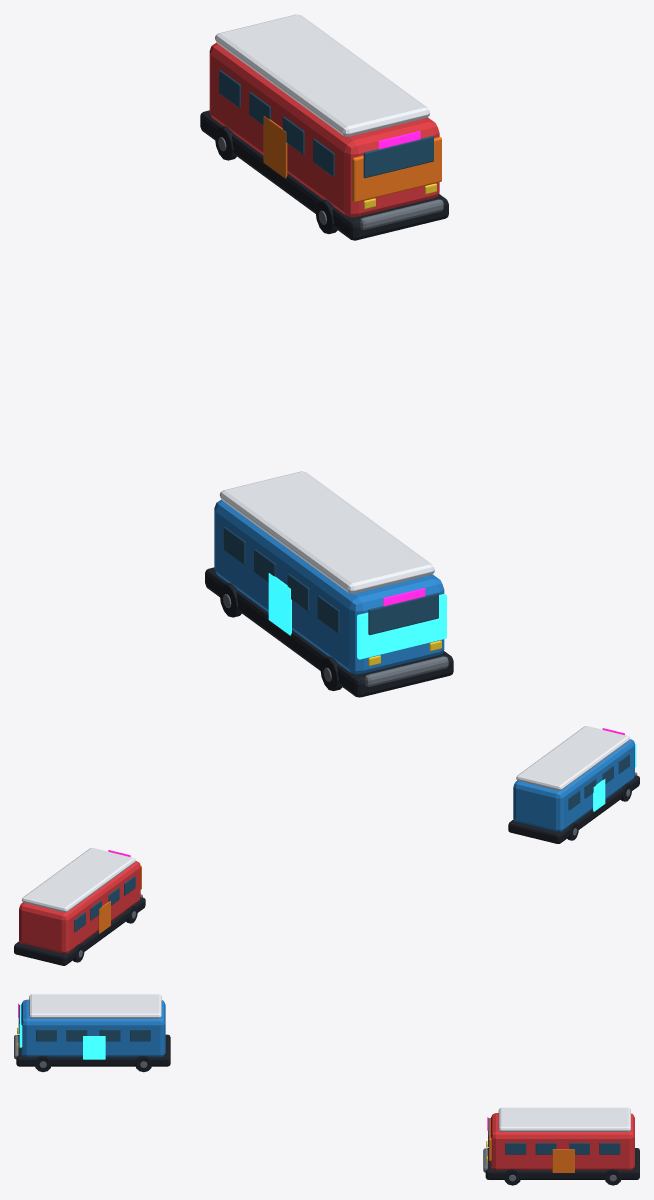
Rendered from 02_TRAINS.fbx.
3 renders of one model, top to bottom at view 1: azimuth 30°, elevation 25°; view 2: azimuth 150°, elevation 25°; view 3: azimuth 270°, elevation 25°, orthographic. The views are drawn at different scales.
Visible parts, largest first — view 1: Train_Metro_Blue_Roof, Train_Express_Red_Roof, Train_Express_Red_Body, Train_Metro_Blue_Body, Train_Express_Red_Chassis, Train_Metro_Blue_Chassis, Train_Express_Red_FrontBand, Train_Metro_Blue_FrontBand, Train_Express_Red_Windshield, Train_Metro_Blue_Windshield, Train_Express_Red_Door, Train_Metro_Blue_Door (+2 smaller); view 2: Train_Express_Red_Body, Train_Metro_Blue_Body, Train_Metro_Blue_Roof, Train_Express_Red_Roof, Train_Express_Red_Chassis, Train_Metro_Blue_Chassis; view 3: Train_Metro_Blue_Body, Train_Express_Red_Body, Train_Metro_Blue_Roof, Train_Express_Red_Roof, Train_Metro_Blue_Chassis, Train_Express_Red_Chassis, Train_Express_Red_Door.001, Train_Metro_Blue_Door.001.
Part boxes in pixels (x1,y1,x2,y2): Train_Metro_Blue_Roof: (219,471,434,593); Train_Express_Red_Roof: (215,14,430,136); Train_Express_Red_Body: (209,42,439,217); Train_Metro_Blue_Body: (214,500,444,674); Train_Express_Red_Chassis: (200,110,448,240); Train_Metro_Blue_Chassis: (205,567,453,697); Train_Express_Red_FrontBand: (352,137,441,202); Train_Metro_Blue_FrontBand: (357,594,446,659); Train_Express_Red_Windshield: (363,135,433,178); Train_Metro_Blue_Windshield: (368,592,438,634); Train_Express_Red_Door: (263,116,287,178); Train_Metro_Blue_Door: (268,573,291,635); Train_Express_Red_Body: (19,861,140,953); Train_Metro_Blue_Body: (513,739,634,831); Train_Metro_Blue_Roof: (516,726,629,790); Train_Express_Red_Roof: (22,848,135,912); Train_Express_Red_Chassis: (14,897,145,965); Train_Metro_Blue_Chassis: (508,775,639,843); Train_Metro_Blue_Body: (21,999,165,1056); Train_Express_Red_Body: (490,1113,634,1170); Train_Metro_Blue_Roof: (29,994,161,1018); Train_Express_Red_Roof: (498,1107,630,1131); Train_Metro_Blue_Chassis: (16,1034,170,1066); Train_Express_Red_Chassis: (485,1148,639,1179); Train_Express_Red_Door.001: (552,1149,574,1172); Train_Metro_Blue_Door.001: (83,1036,105,1059).
Size of the model in its own units: 19.63 by 3.69 by 37.34.
